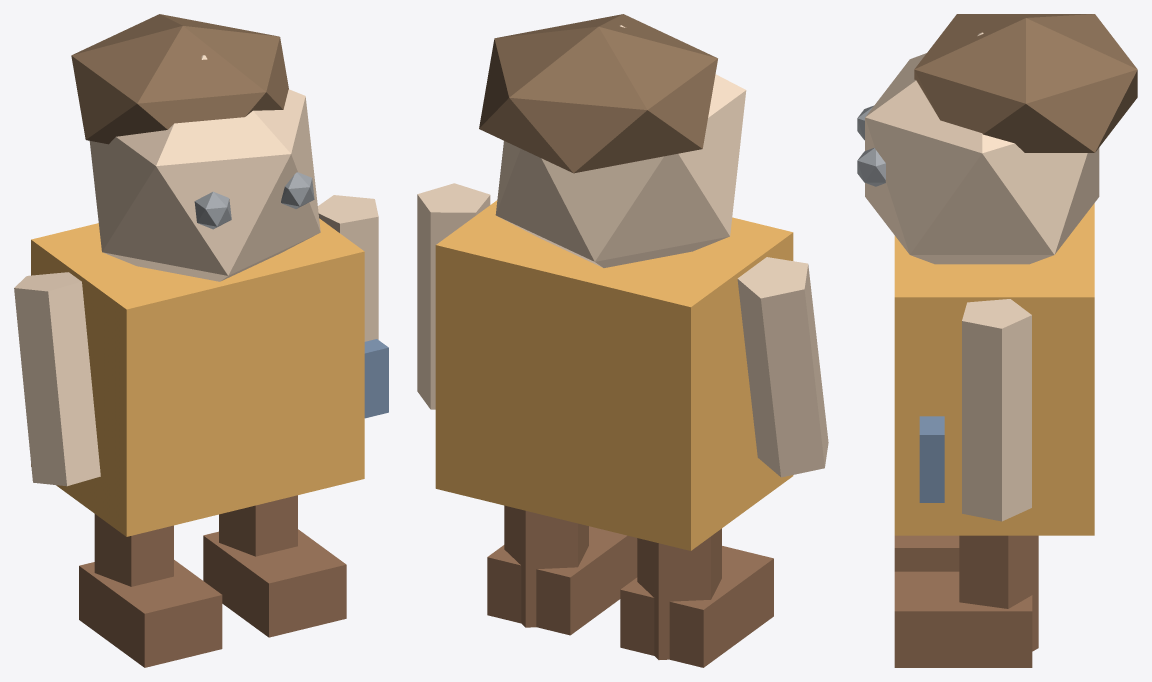
Rendered from npcpose_villager_wave_00.glb.
3 views of the same model, side by side, from view 1: azimuth 30°, elevation 25°; view 2: azimuth 150°, elevation 25°; view 3: azimuth 270°, elevation 25° (orthographic). The views are drawn at different scales.
Visible parts, largest first — view 1: npcpose; view 2: npcpose; view 3: npcpose.
Part boxes in pixels (x1,y1,x2,y2): npcpose: (14, 14, 388, 667); npcpose: (417, 14, 828, 667); npcpose: (857, 14, 1137, 667).
Bounding box in the file's own units: 0.6977 × 1.06 × 0.4484.
